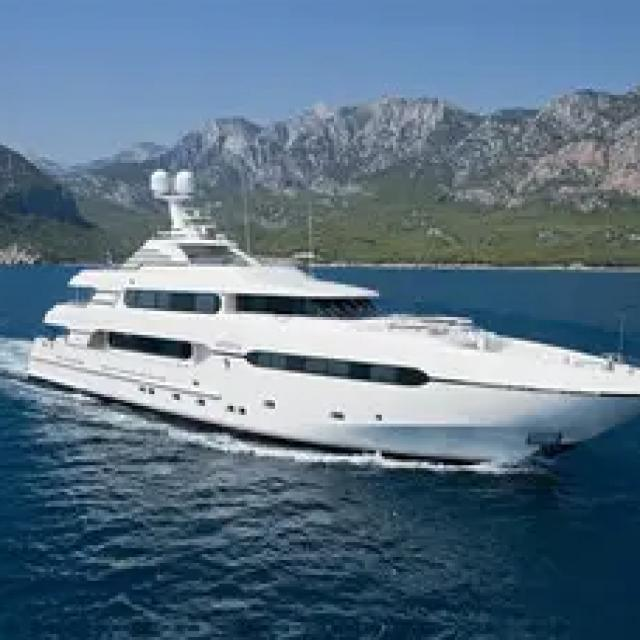houseboat: (25, 151, 640, 489)
